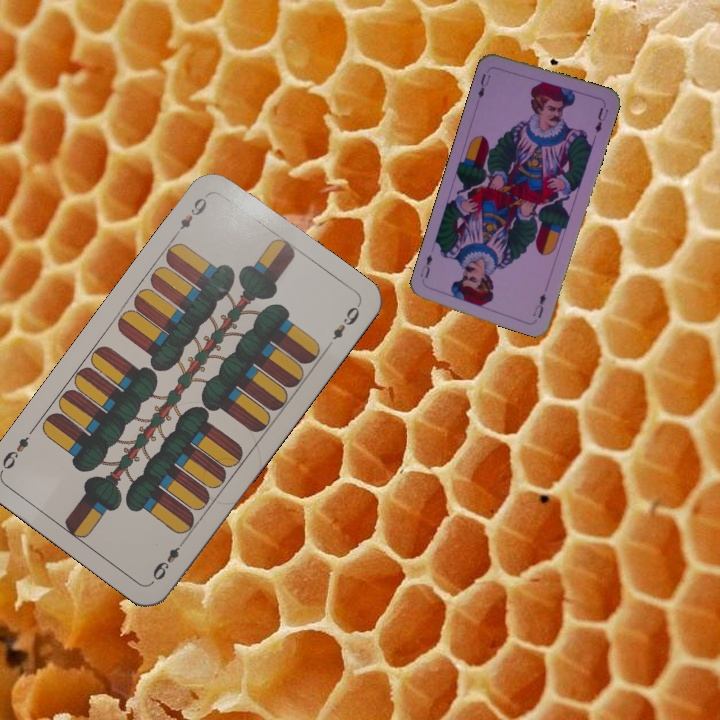E9: (148, 535, 188, 586), (171, 193, 210, 240)
EU: (529, 289, 549, 320), (474, 69, 493, 101)
